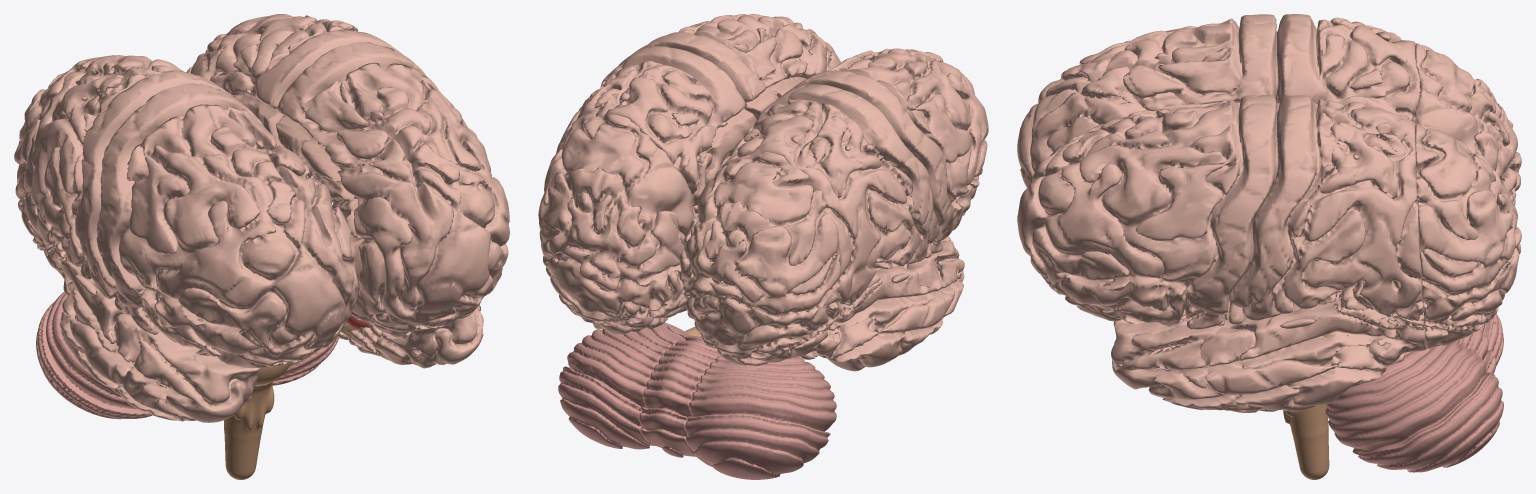
File: brain.glb
3 views of the same model, side by side, from view 1: azimuth 30°, elevation 25°; view 2: azimuth 150°, elevation 25°; view 3: azimuth 270°, elevation 25° (orthographic). The views are drawn at different scales.
Parts seen in each view (by area): view 1: lobulo_frontal__L, lobulo_frontal__R, lobulo_parietal__L, lobulo_temporal__L, lobulo_parietal__R, cerebelo__L, lobulo_temporal__R, giro_cingulado__R, bulbo_raquideo__C, lobulo_occipital__L, lobulo_occipital__R, cerebelo__R; view 2: lobulo_occipital__L, lobulo_occipital__R, lobulo_parietal__L, lobulo_frontal__L, cerebelo__L, lobulo_parietal__R, lobulo_temporal__L, cerebelo__R, lobulo_frontal__R, cerebelo__C, giro_cingulado__R; view 3: lobulo_frontal__R, lobulo_parietal__R, lobulo_temporal__R, lobulo_frontal__L, lobulo_occipital__R, cerebelo__R, lobulo_parietal__L, lobulo_occipital__L, bulbo_raquideo__C, cerebelo__C, cerebelo__L.
Boxes of the visible parts, x1,y1,x2,y2 form: lobulo_frontal__L: [96, 83, 358, 368]; lobulo_frontal__R: [276, 42, 509, 343]; lobulo_parietal__L: [23, 55, 228, 310]; lobulo_temporal__L: [35, 241, 267, 422]; lobulo_parietal__R: [210, 14, 402, 108]; cerebelo__L: [36, 292, 152, 419]; lobulo_temporal__R: [337, 305, 483, 368]; giro_cingulado__R: [233, 94, 363, 296]; bulbo_raquideo__C: [224, 381, 274, 479]; lobulo_occipital__L: [14, 55, 110, 259]; lobulo_occipital__R: [186, 14, 281, 80]; cerebelo__R: [272, 337, 338, 385]; lobulo_occipital__L: [679, 151, 840, 366]; lobulo_occipital__R: [538, 114, 698, 334]; lobulo_parietal__L: [714, 84, 939, 320]; lobulo_frontal__L: [790, 48, 988, 253]; cerebelo__L: [685, 356, 836, 479]; lobulo_parietal__R: [556, 46, 746, 213]; lobulo_temporal__L: [785, 236, 964, 371]; cerebelo__R: [558, 322, 694, 449]; lobulo_frontal__R: [635, 14, 840, 102]; cerebelo__C: [639, 336, 719, 457]; giro_cingulado__R: [688, 77, 806, 217]; lobulo_frontal__R: [1017, 95, 1278, 329]; lobulo_parietal__R: [1228, 94, 1423, 324]; lobulo_temporal__R: [1111, 291, 1426, 412]; lobulo_frontal__L: [1017, 14, 1278, 187]; lobulo_occipital__R: [1415, 124, 1521, 348]; cerebelo__R: [1325, 340, 1503, 472]; lobulo_parietal__L: [1275, 14, 1420, 120]; lobulo_occipital__L: [1412, 43, 1521, 205]; bulbo_raquideo__C: [1283, 405, 1329, 479]; cerebelo__C: [1458, 329, 1496, 376]; cerebelo__L: [1480, 313, 1503, 365].
Bounding box in the file's own units: 13.61 × 15.38 × 16.9.
